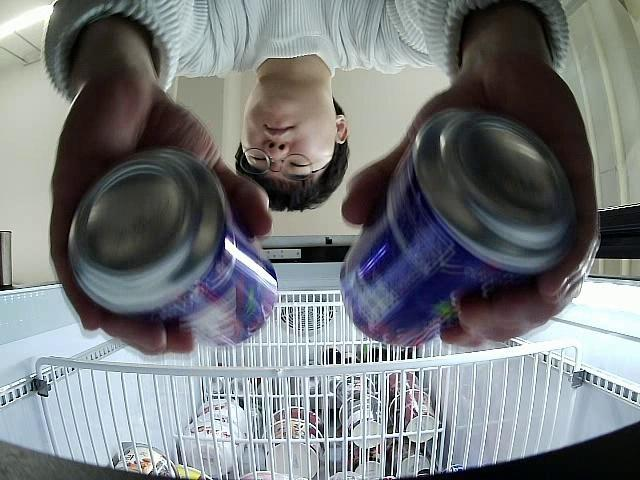14_welchsGrape: (340, 110, 576, 344), (69, 149, 278, 346)
